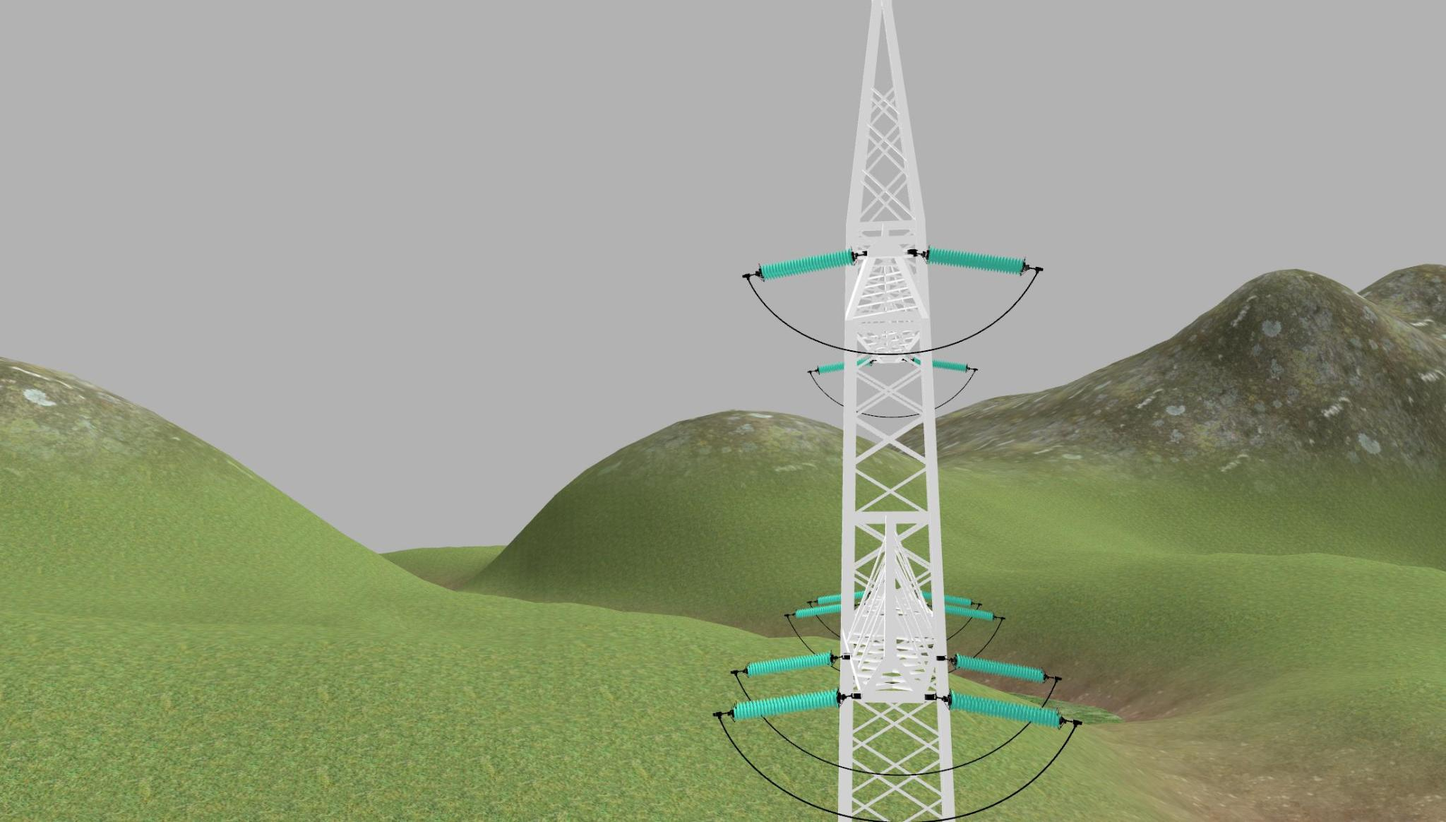tower: (832, 0, 962, 822)
